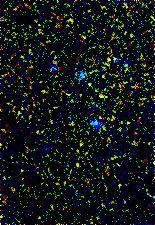star: (87, 81, 117, 111)
